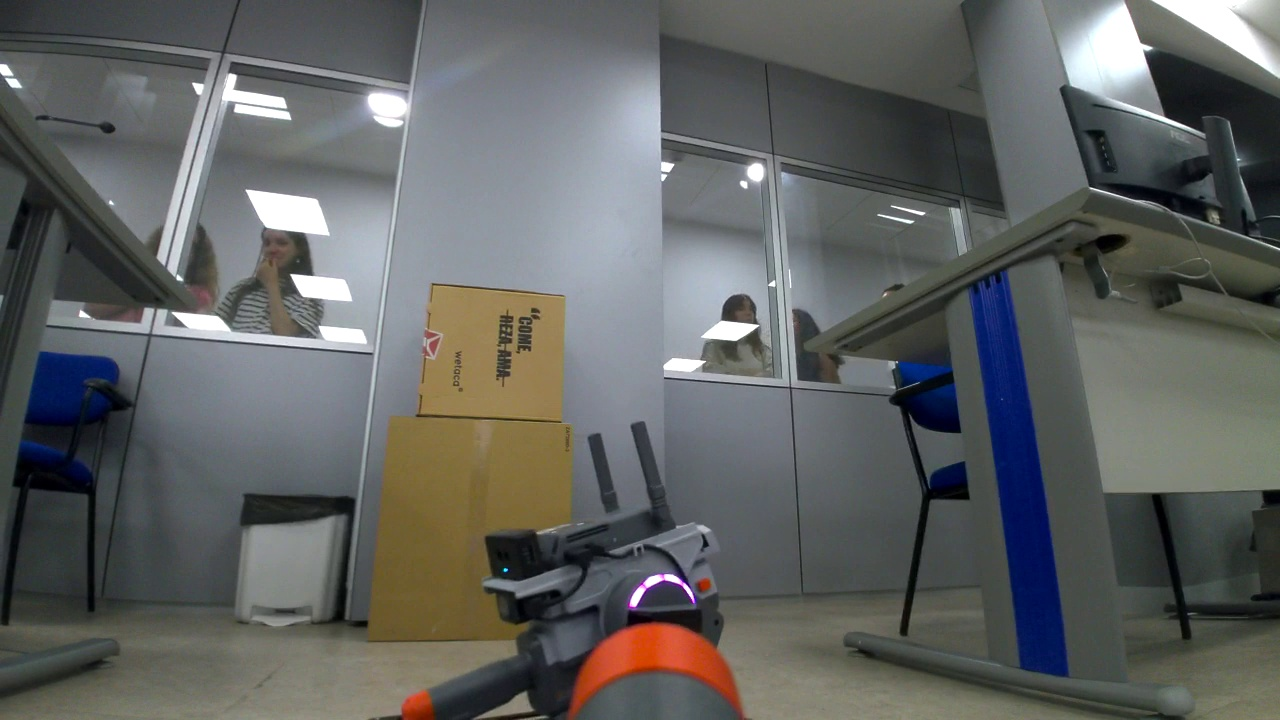robot: (382, 503, 735, 717)
